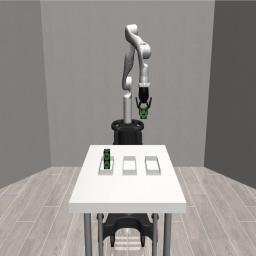cube1: (140, 107, 147, 119)
cube2: (103, 149, 110, 160)
cube3: (104, 160, 110, 170)
